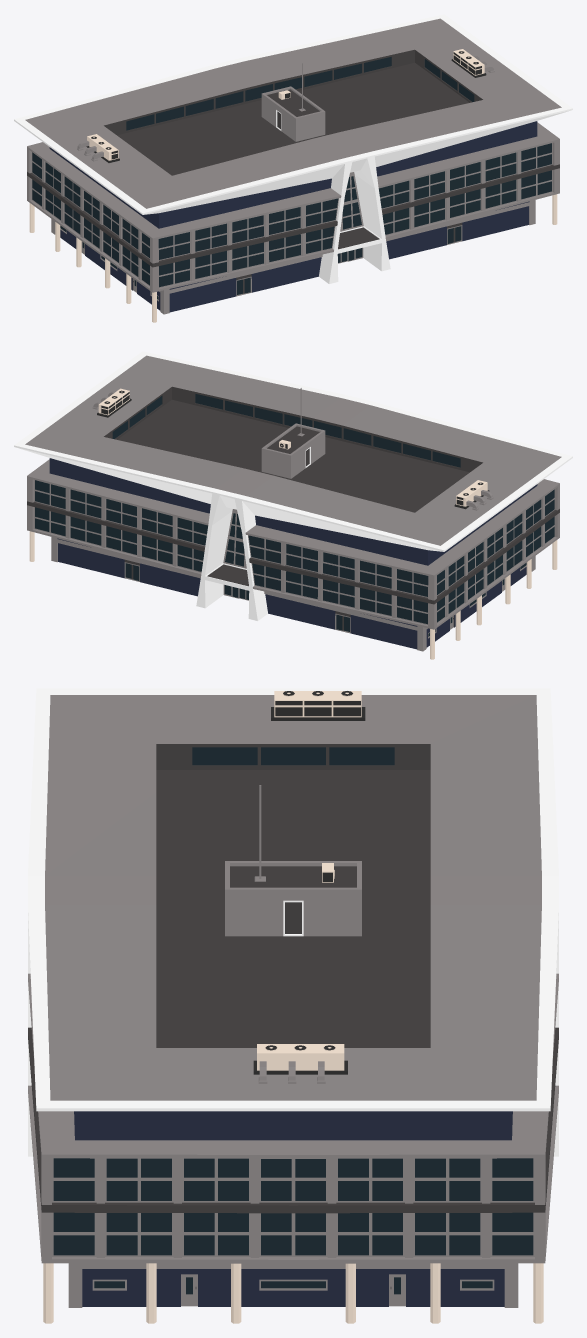
The model's file is building-train-station.glb.
3 renders of one model, top to bottom at view 1: azimuth 30°, elevation 25°; view 2: azimuth 150°, elevation 25°; view 3: azimuth 270°, elevation 25°, orthographic. The views are drawn at different scales.
Parts seen in each view (by area): view 1: building-train-station; view 2: building-train-station; view 3: building-train-station.
Part boxes in pixels (x1,y1,x2,y2): building-train-station: (14,14,572,322); building-train-station: (14,351,572,659); building-train-station: (28,688,558,1323).
Size of the model in its own units: 58 by 22 by 31.
Materials: 1 (1 with a texture image).
